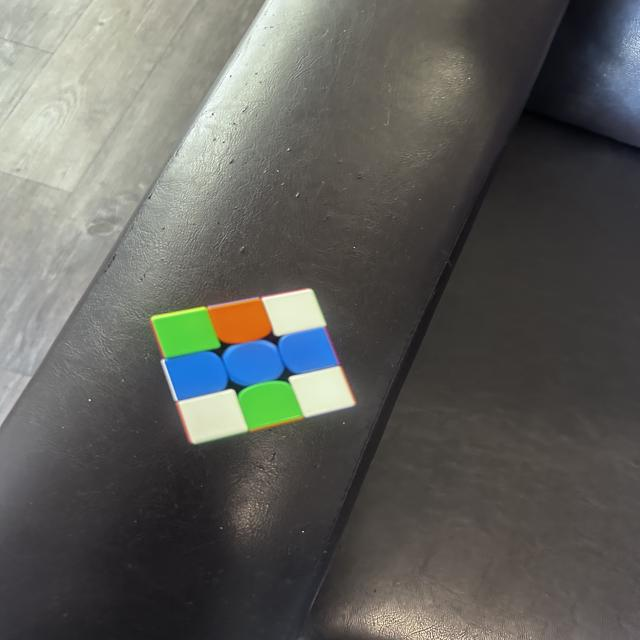sticker: (176, 388, 248, 445), (149, 306, 220, 360), (288, 365, 357, 419), (260, 287, 328, 337), (237, 380, 303, 431), (162, 351, 228, 402), (276, 326, 340, 376), (221, 339, 285, 388), (207, 297, 272, 345)
